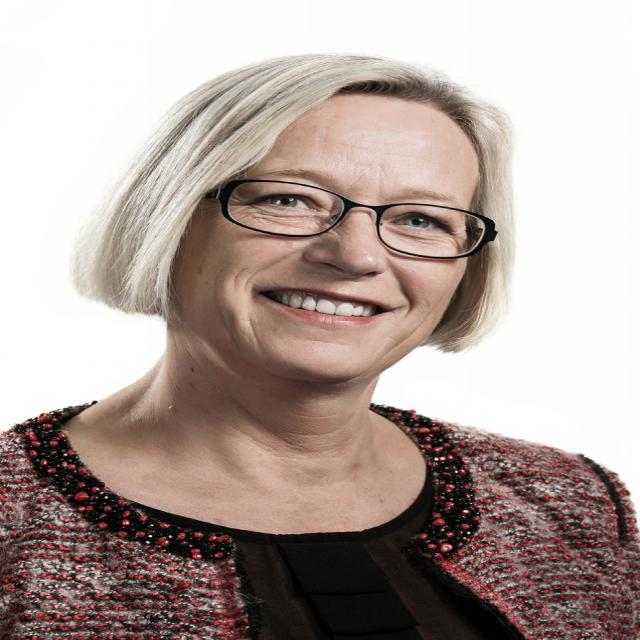Glasses: (178, 175, 493, 248)
